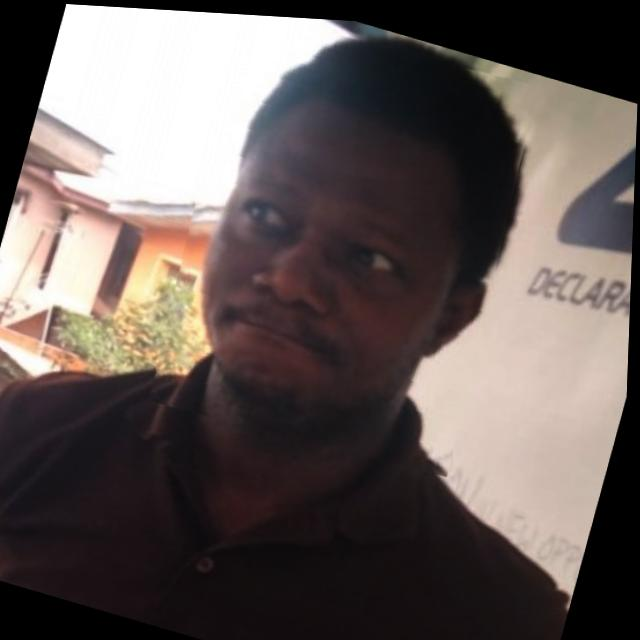sad: (140, 7, 550, 482)
